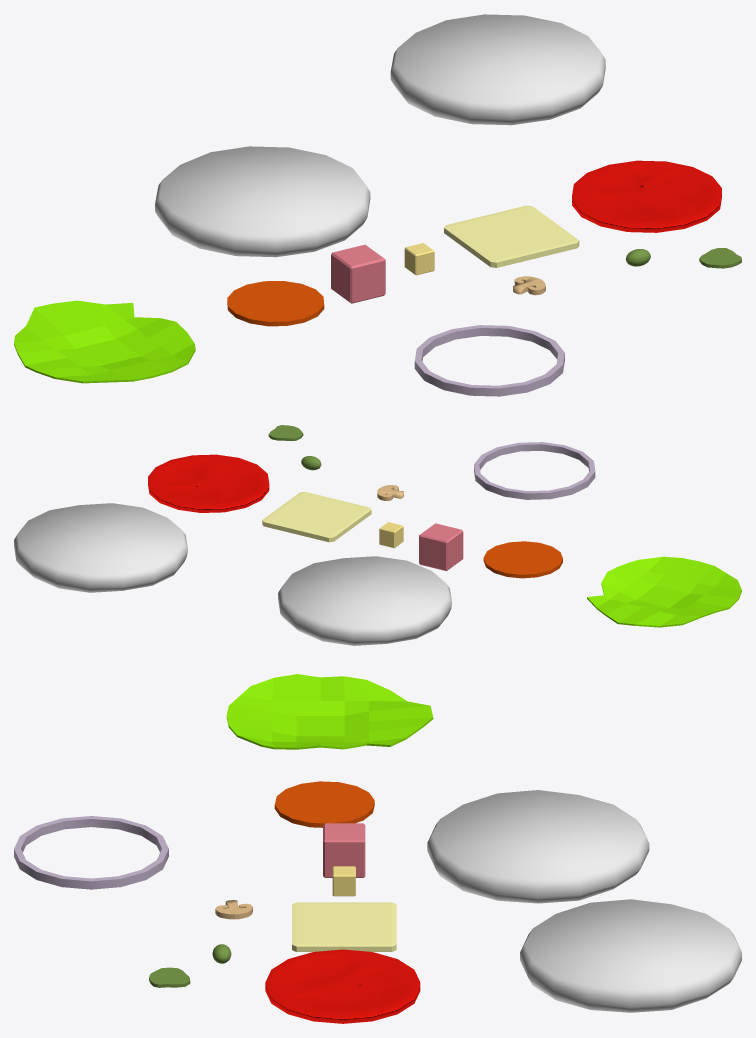
File: ingedienten.fbx
The picture shows the model from 3 angles, top to bottom: view 1: azimuth 30°, elevation 25°; view 2: azimuth 150°, elevation 25°; view 3: azimuth 270°, elevation 25°; orthographic projection. The views are drawn at different scales.
Parts seen in each view (by area): view 1: beef burger, kip burger, latice, tomato, amirican sheese, ui, peperoni, ham, good sheese, augurk; view 2: kip burger, beef burger, latice, tomato, amirican sheese, ui, peperoni, ham, good sheese, augurk; view 3: beef burger, kip burger, latice, tomato, amirican sheese, ui, peperoni, ham, good sheese, augurk, mushroom.
Boxes of the visible parts, box(x1,y1,x2,y2) form: beef burger: box(155, 146, 370, 257); kip burger: box(390, 14, 605, 125); latice: box(14, 300, 195, 383); tomato: box(572, 160, 721, 232); amirican sheese: box(444, 205, 579, 267); ui: box(414, 325, 564, 396); peperoni: box(227, 281, 324, 326); ham: box(331, 244, 385, 303); good sheese: box(404, 243, 434, 275); augurk: box(699, 248, 741, 268); kip burger: box(14, 503, 187, 592); beef burger: box(278, 556, 451, 645); latice: box(587, 556, 741, 627); tomato: box(148, 454, 269, 512); amirican sheese: box(262, 491, 371, 542); ui: box(474, 442, 595, 499); peperoni: box(483, 541, 562, 578); ham: box(419, 523, 463, 570); good sheese: box(379, 522, 403, 548); augurk: box(268, 425, 303, 440); beef burger: box(427, 790, 649, 903); kip burger: box(520, 899, 741, 1012); latice: box(226, 674, 433, 749); tomato: box(265, 949, 420, 1023); amirican sheese: box(292, 902, 396, 951); ui: box(14, 816, 168, 889); peperoni: box(274, 781, 374, 827); ham: box(323, 823, 365, 877); good sheese: box(332, 866, 355, 896); augurk: box(149, 967, 190, 987); mushroom: box(215, 900, 252, 919).
Size of the model in its own units: 1096 by 94.42 by 940.
